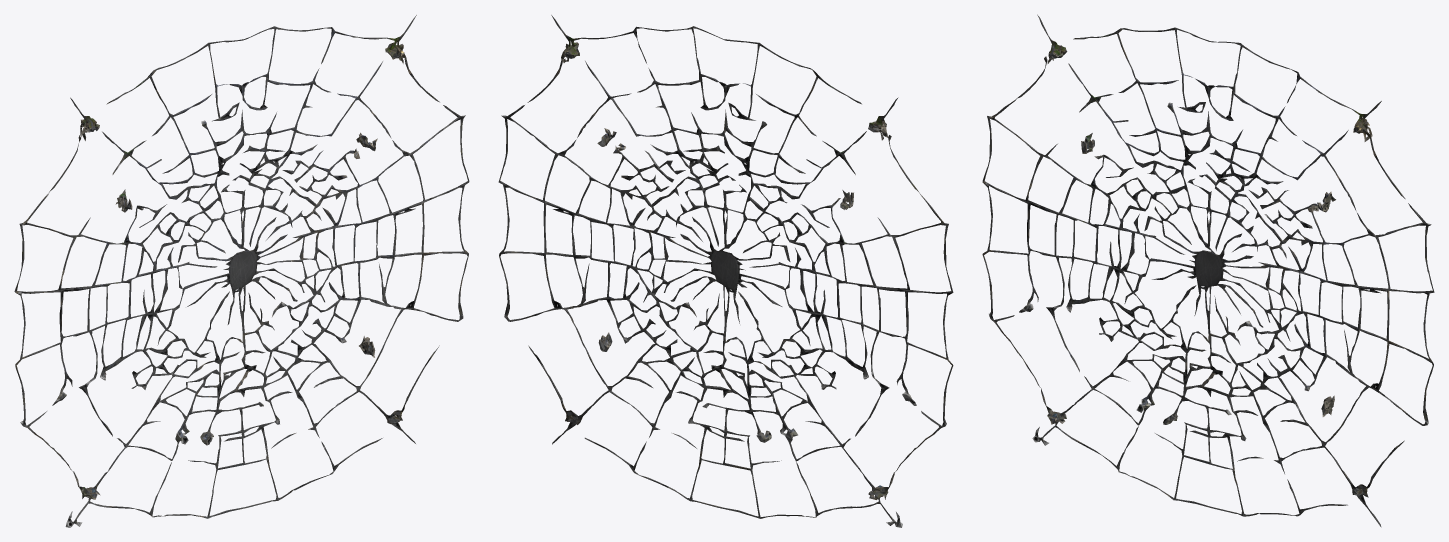
The model's file is Mạng nhện.fbx.
3 views of the same model, side by side, from view 1: azimuth 30°, elevation 25°; view 2: azimuth 150°, elevation 25°; view 3: azimuth 330°, elevation 25° (orthographic).
Parts seen in each view (by area): view 1: temp; view 2: temp; view 3: temp.
Part boxes in pixels (bbox=[...]): temp: bbox=[14, 15, 469, 527]; temp: bbox=[498, 15, 953, 527]; temp: bbox=[982, 14, 1434, 527].
Bounding box in the file's own units: 199 × 200 × 11.95.
Materials: 1 (1 with a texture image).
